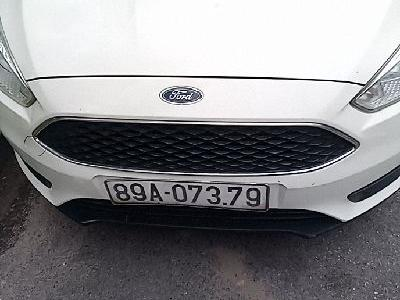car: (104, 178, 271, 214)
